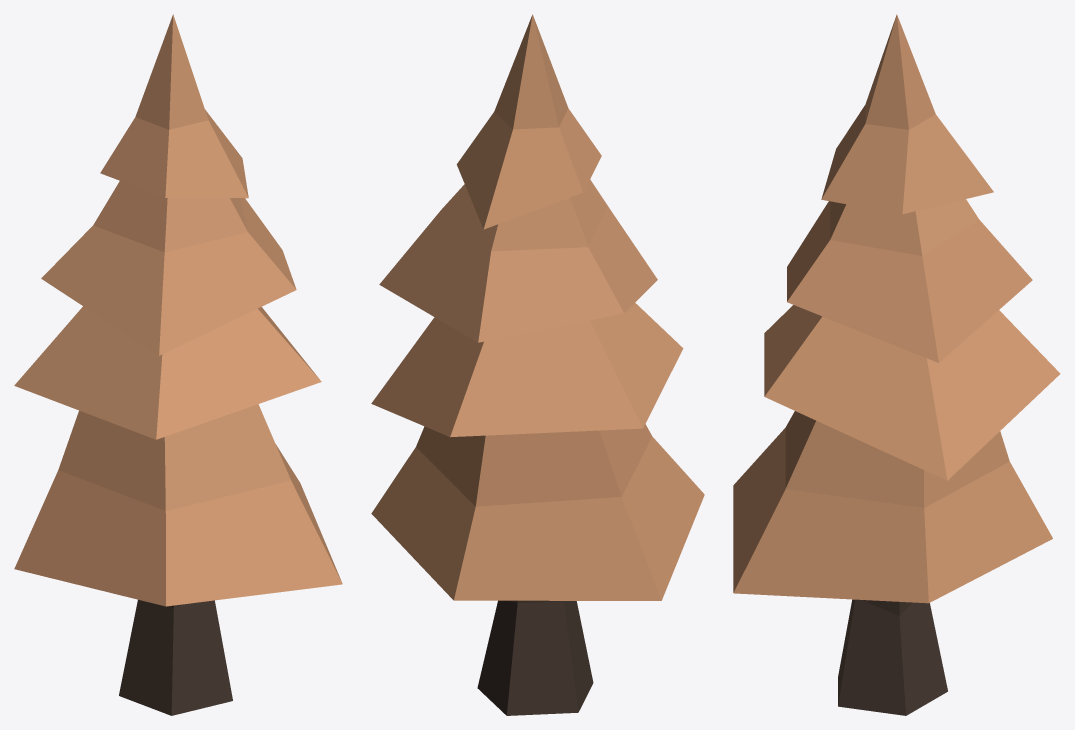
The model's file is orange_conetree4.fbx.
3 views of the same model, side by side, from view 1: azimuth 30°, elevation 25°; view 2: azimuth 150°, elevation 25°; view 3: azimuth 270°, elevation 25° (orthographic).
Parts seen in each view (by area): view 1: orange_conetree4; view 2: orange_conetree4; view 3: orange_conetree4.
Part boxes in pixels (x1,y1,x2,y2): orange_conetree4: [14, 14, 342, 715]; orange_conetree4: [371, 14, 704, 715]; orange_conetree4: [733, 14, 1060, 715].
Size of the model in its own units: 529 by 1190 by 521.
